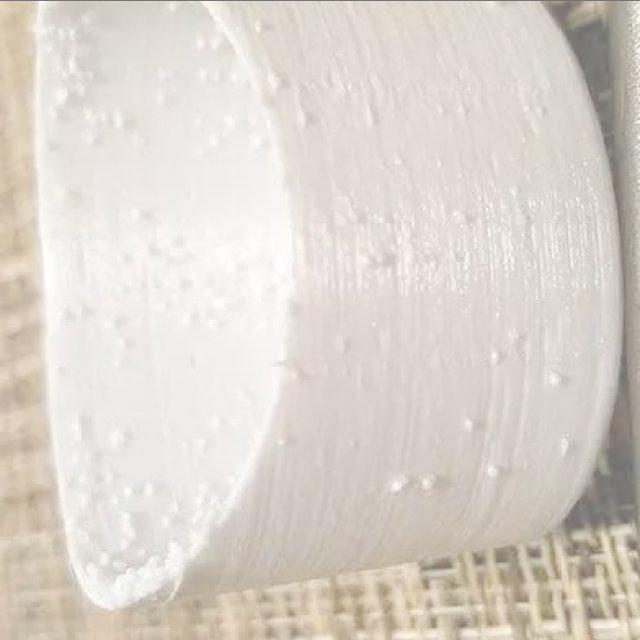zits: (45, 76, 76, 108), (412, 469, 444, 494), (539, 362, 564, 394), (456, 412, 482, 441), (551, 430, 575, 460), (291, 101, 315, 131), (495, 324, 527, 346), (478, 456, 501, 484), (386, 467, 410, 493), (108, 547, 130, 573), (124, 202, 149, 224), (172, 274, 194, 299), (110, 106, 130, 132), (329, 334, 352, 356), (358, 246, 376, 274), (446, 210, 474, 228), (484, 346, 506, 368), (192, 64, 214, 86), (266, 70, 286, 94), (106, 430, 130, 450), (142, 478, 166, 498), (148, 84, 168, 106), (56, 302, 76, 324), (252, 16, 270, 40), (271, 430, 292, 450), (124, 482, 145, 500), (113, 334, 135, 348), (106, 312, 120, 332)
